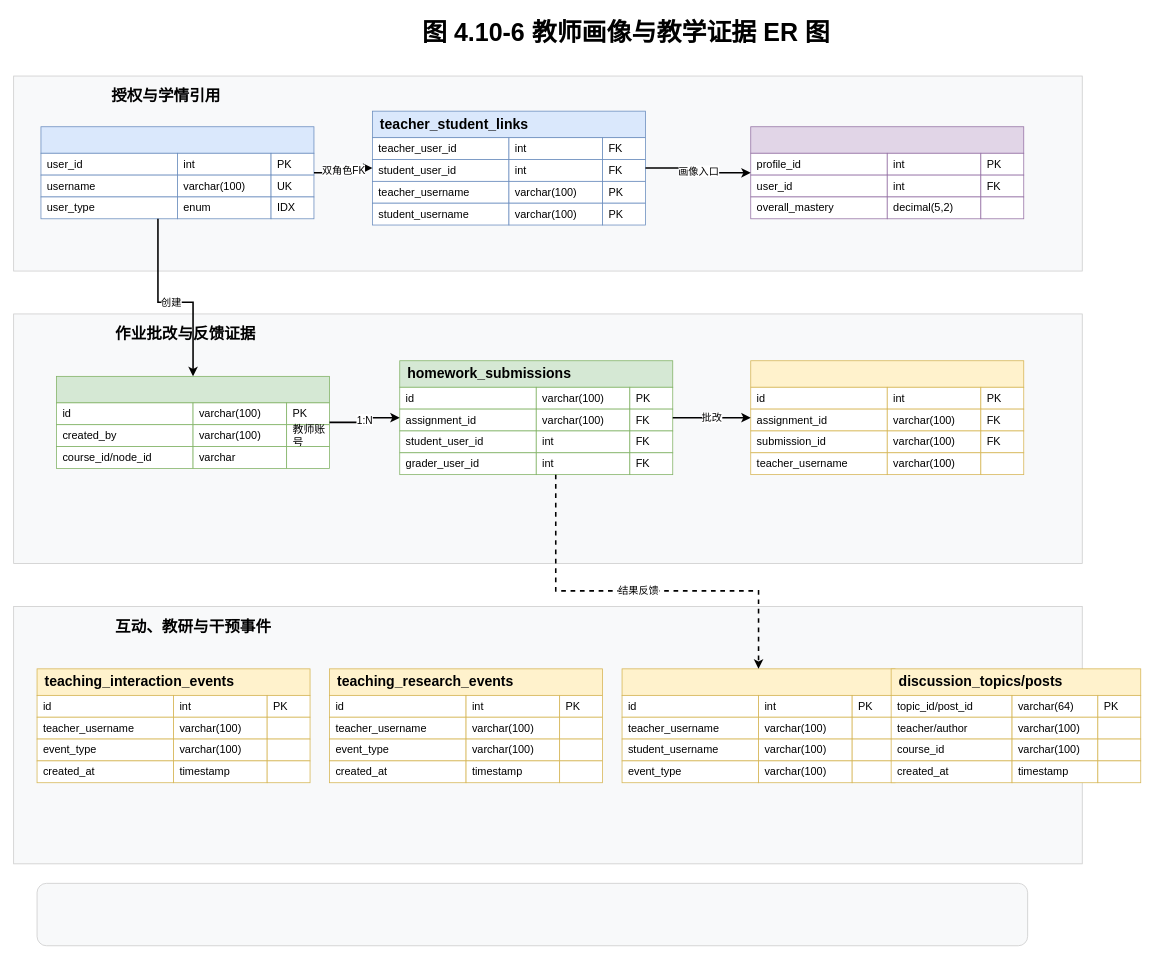
Some shapes in this 1154 by 959 pixel diagram are drawn without their labels. The shapes that lost their labels are listed below. From the top down, each one's centre as x and y in pixels, then its label:
At (x=177, y=139): "users（教师/学生）".
At (x=887, y=139): "twin_profiles（学生画像引用）".
At (x=193, y=389): "homework_assignments".
At (x=887, y=373): "homework_grading_events".
At (x=758, y=681): "teacher_intervention_events".
At (x=532, y=914): "图例：实线表示外键或明确业务引用；虚线表示结果反馈进入教师画像证据计算。教师画像以教学过程证据为主，学生结果只作为支持效果反馈。".
